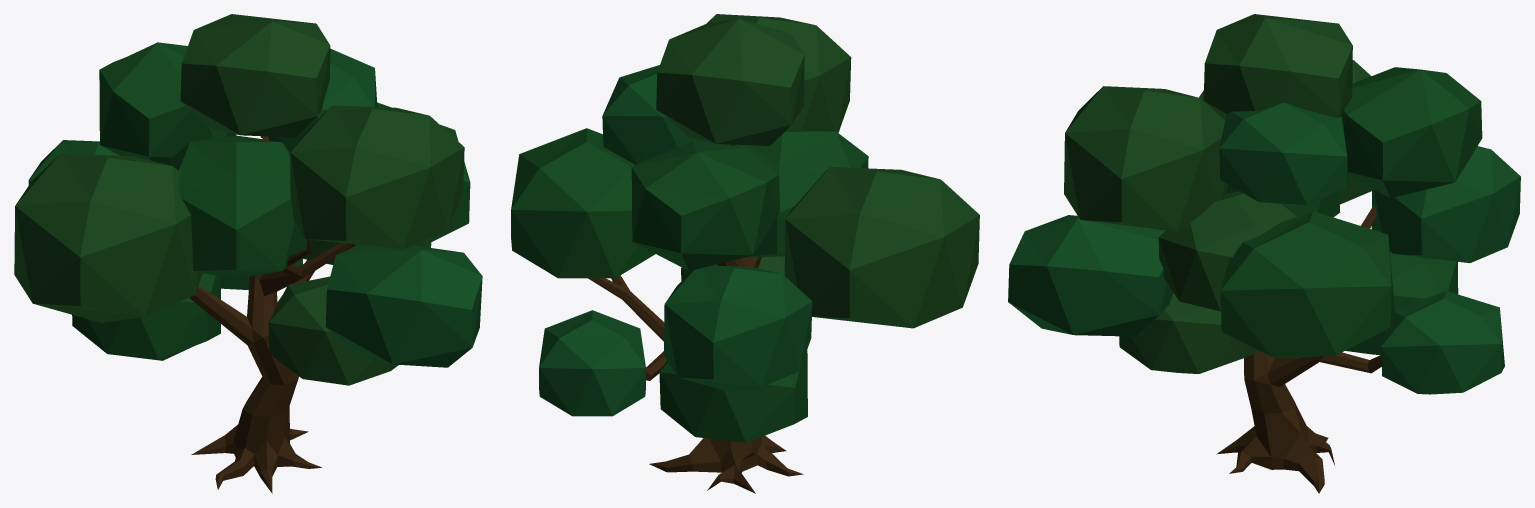
Rendered from tree1.FBX.
3 views of the same model, side by side, from view 1: azimuth 30°, elevation 25°; view 2: azimuth 150°, elevation 25°; view 3: azimuth 270°, elevation 25° (orthographic).
Visible parts, largest first — view 1: tree1; view 2: tree1; view 3: tree1.
Part boxes in pixels (box(x1,y1,x2,y2)): tree1: box(14, 14, 482, 493); tree1: box(511, 14, 979, 493); tree1: box(1008, 14, 1520, 493).
Bounding box in the file's own units: 361 × 358 × 370.
